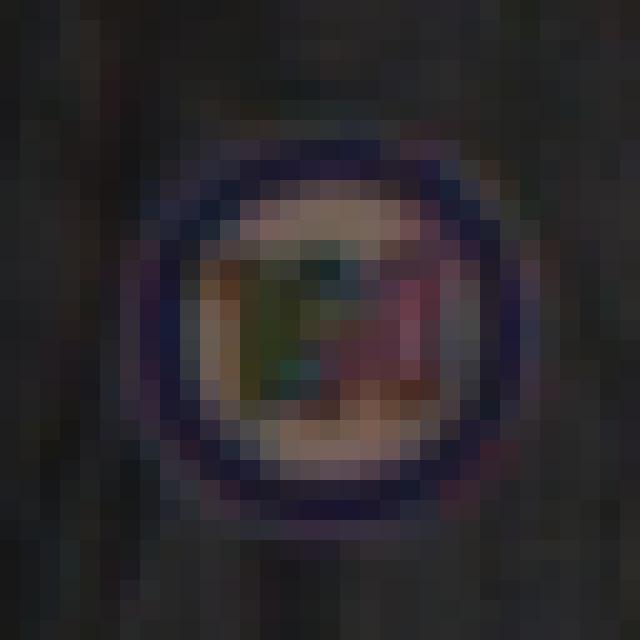SPEED LIMIT 100: (145, 145, 553, 524)
